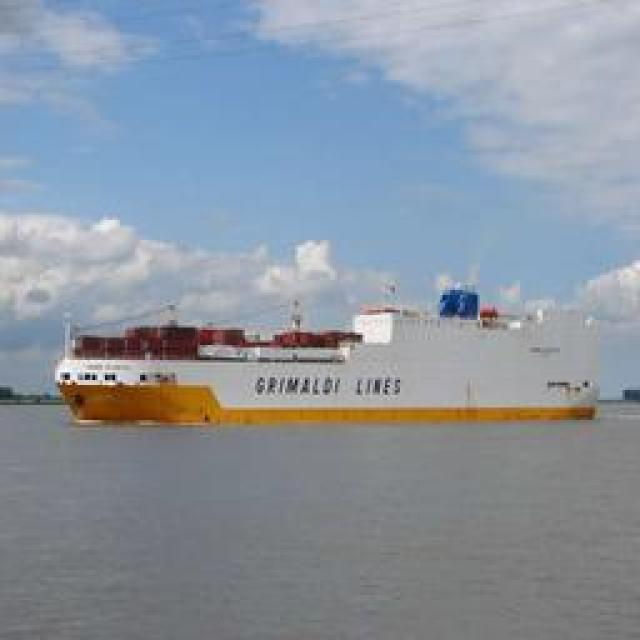ship2: (55, 282, 601, 426)
